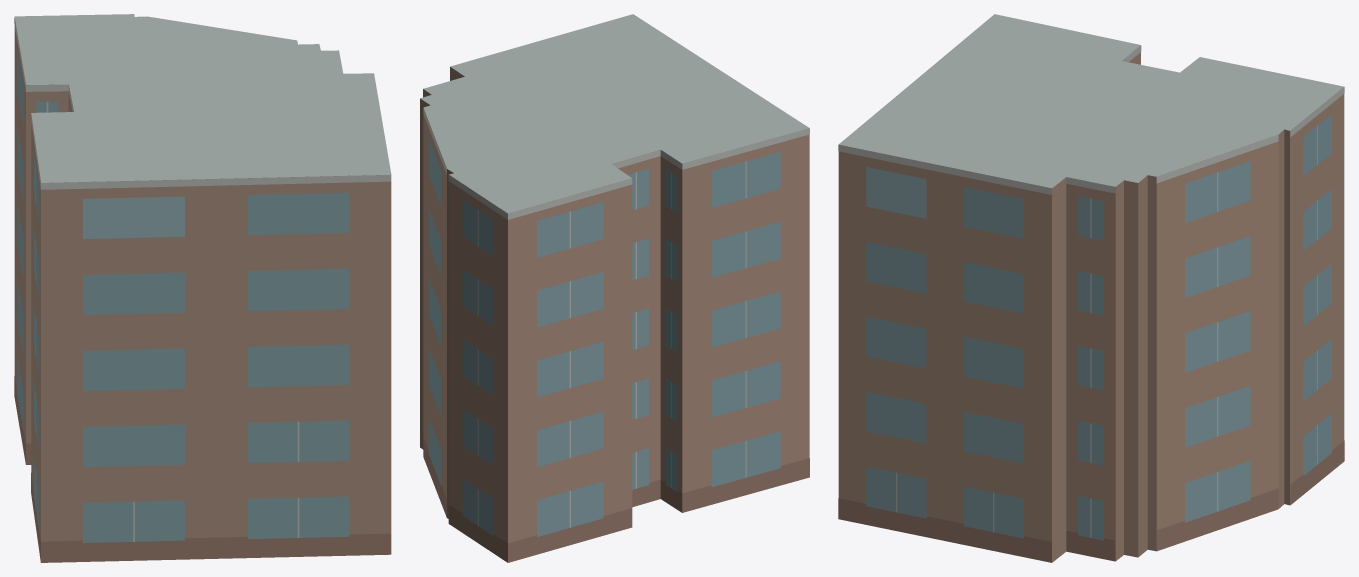
The model's file is survey-upis-32941071.glb.
3 renders of one model, left to right at view 1: azimuth 30°, elevation 25°; view 2: azimuth 150°, elevation 25°; view 3: azimuth 270°, elevation 25°, orthographic. The views are drawn at different scales.
Visible parts, largest first — view 1: survey-upis-32941071.tmp; view 2: survey-upis-32941071.tmp; view 3: survey-upis-32941071.tmp.
Part boxes in pixels (x1=…): survey-upis-32941071.tmp: x1=14, y1=14, x2=391, y2=562; survey-upis-32941071.tmp: x1=420, y1=14, x2=809, y2=562; survey-upis-32941071.tmp: x1=838, y1=14, x2=1344, y2=562.
Bounding box in the file's own units: 13.53 × 13.55 × 16.6.
